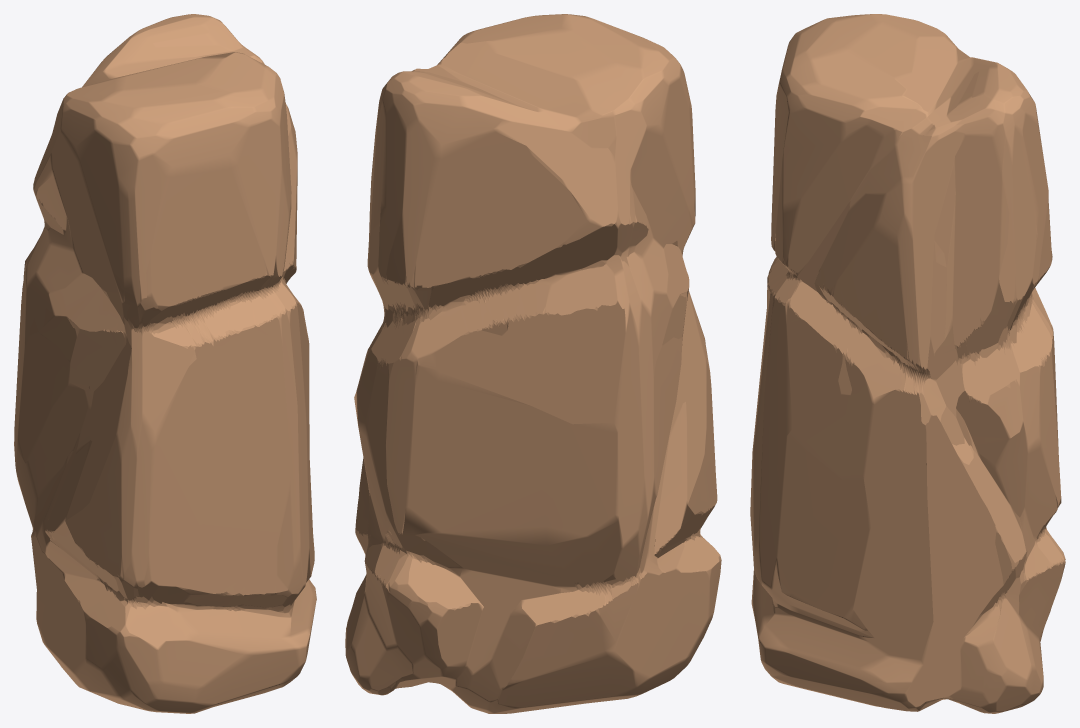
3 renders of one model, left to right at view 1: azimuth 30°, elevation 25°; view 2: azimuth 150°, elevation 25°; view 3: azimuth 270°, elevation 25°, orthographic. The views are drawn at different scales.
Visible parts, largest first — view 1: Mesh_41_LOD0; view 2: Mesh_41_LOD0; view 3: Mesh_41_LOD0.
Boxes of the visible parts, bbox=[...] form: Mesh_41_LOD0: bbox=[14, 14, 316, 713]; Mesh_41_LOD0: bbox=[345, 14, 721, 713]; Mesh_41_LOD0: bbox=[750, 14, 1065, 713].
Size of what is drawn, in the model's own units: 1039 by 2160 by 1013.
